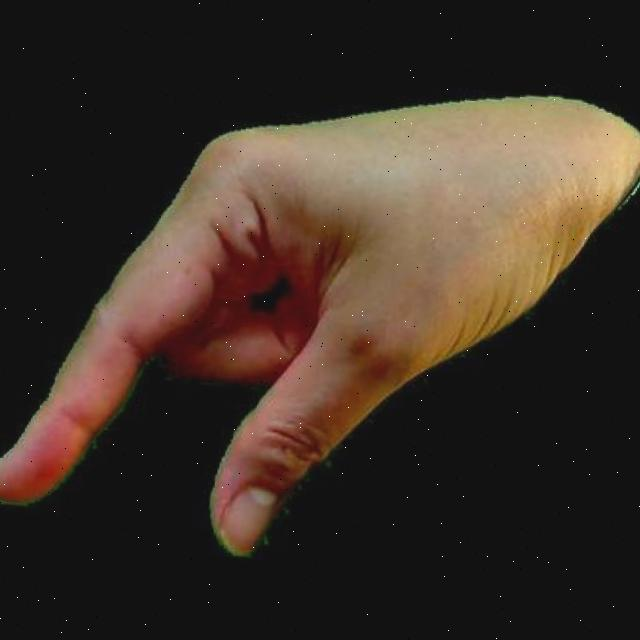q: (0, 35, 640, 588)
